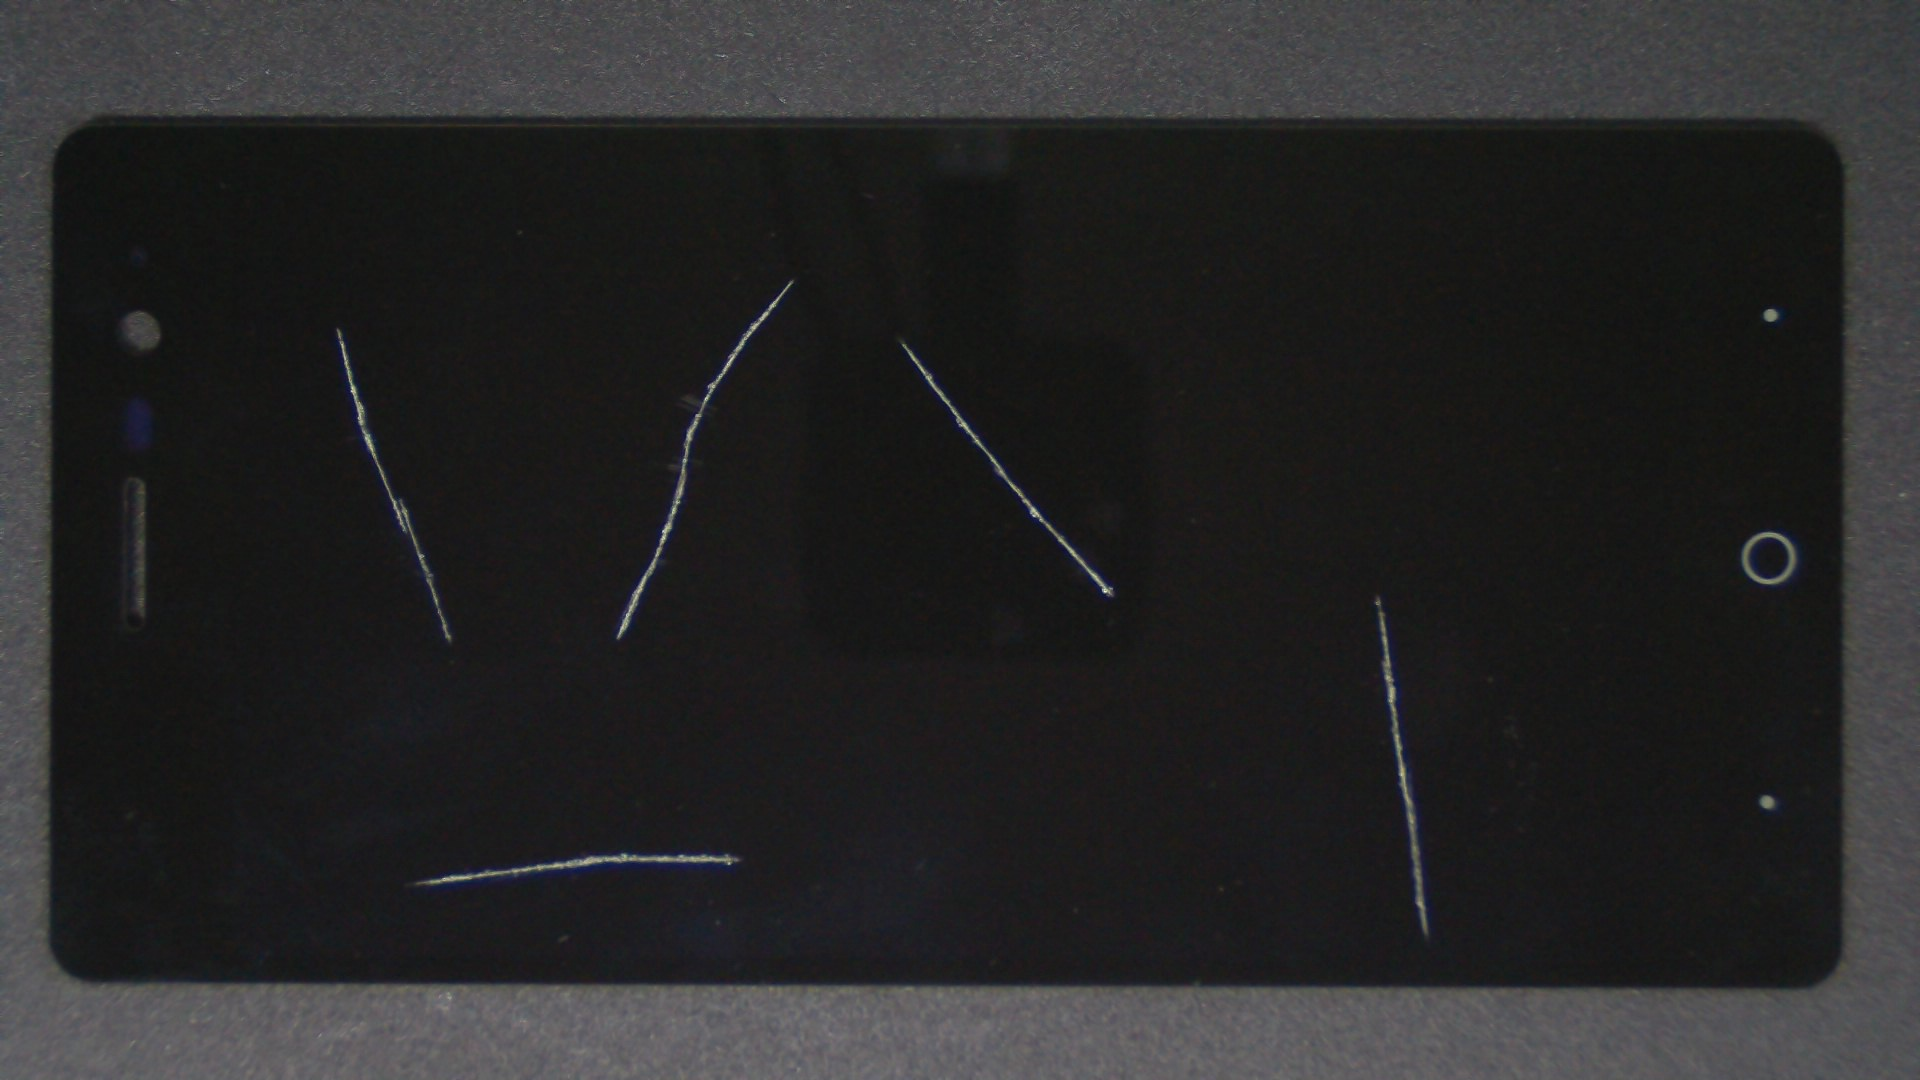oil: (690, 295, 1920, 891), (310, 425, 930, 1080), (451, 169, 1349, 508), (401, 135, 1182, 423), (169, 162, 502, 491)
